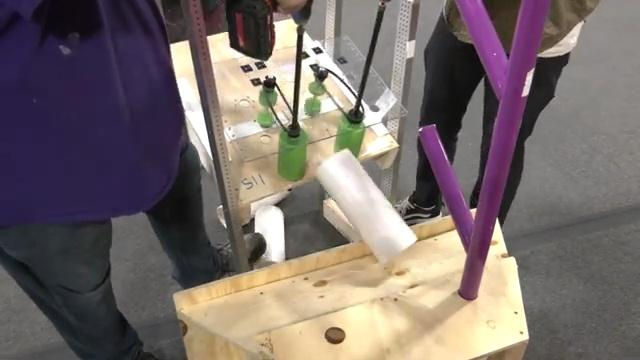CORAL: (315, 146, 418, 264), (254, 207, 288, 267)
